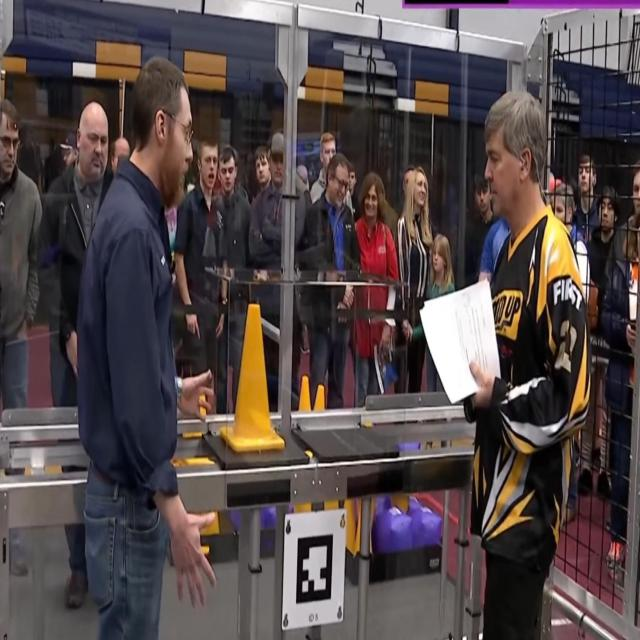frc_cone: (219, 302, 288, 449), (340, 492, 355, 556), (293, 373, 312, 413), (312, 378, 324, 411), (200, 510, 218, 532)
frc_cube: (377, 508, 412, 553), (408, 503, 441, 549), (264, 506, 277, 532), (231, 508, 242, 531)
